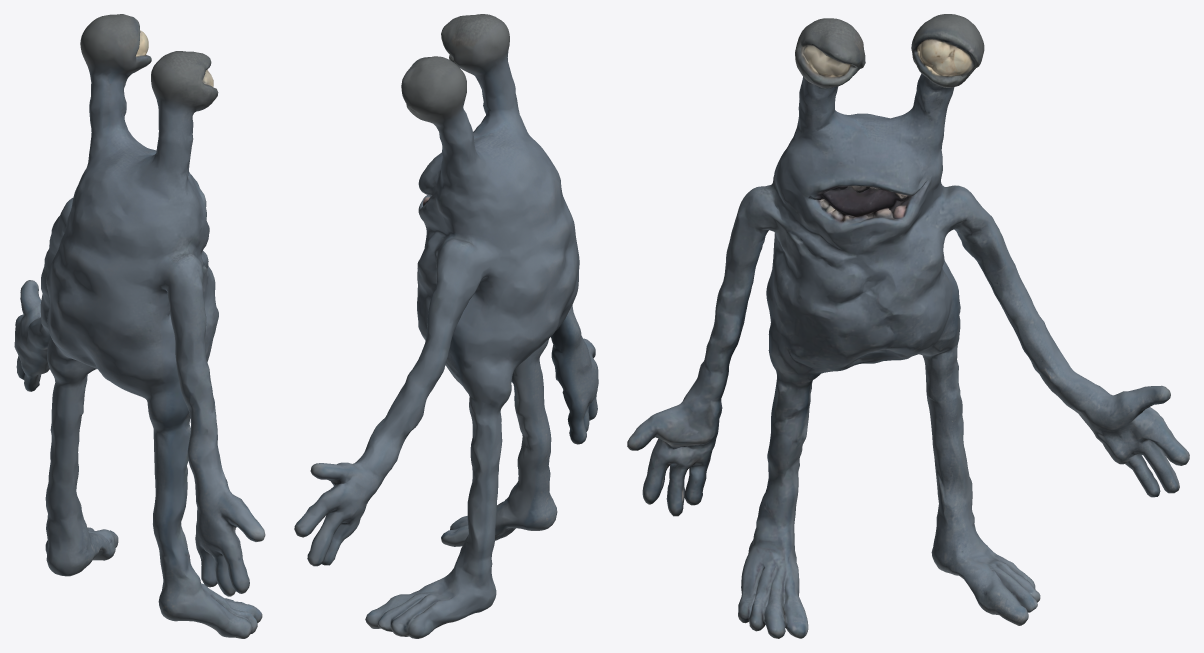
The model's file is statue-blue.glb.
The picture shows the model from 3 angles, left to right: view 1: azimuth 30°, elevation 25°; view 2: azimuth 150°, elevation 25°; view 3: azimuth 270°, elevation 25°; orthographic projection. The views are drawn at different scales.
Parts seen in each view (by area): view 1: tripo_node_26c09188-bac1-44df-a673-e44b0a660878; view 2: tripo_node_26c09188-bac1-44df-a673-e44b0a660878; view 3: tripo_node_26c09188-bac1-44df-a673-e44b0a660878.
Part boxes in pixels (x1,y1,x2,y2): tripo_node_26c09188-bac1-44df-a673-e44b0a660878: [14, 14, 265, 638]; tripo_node_26c09188-bac1-44df-a673-e44b0a660878: [294, 14, 598, 638]; tripo_node_26c09188-bac1-44df-a673-e44b0a660878: [627, 14, 1189, 638].
Bounding box in the file's own units: 0.2929 × 0.9789 × 0.8395.
1 material, 1 textured.
